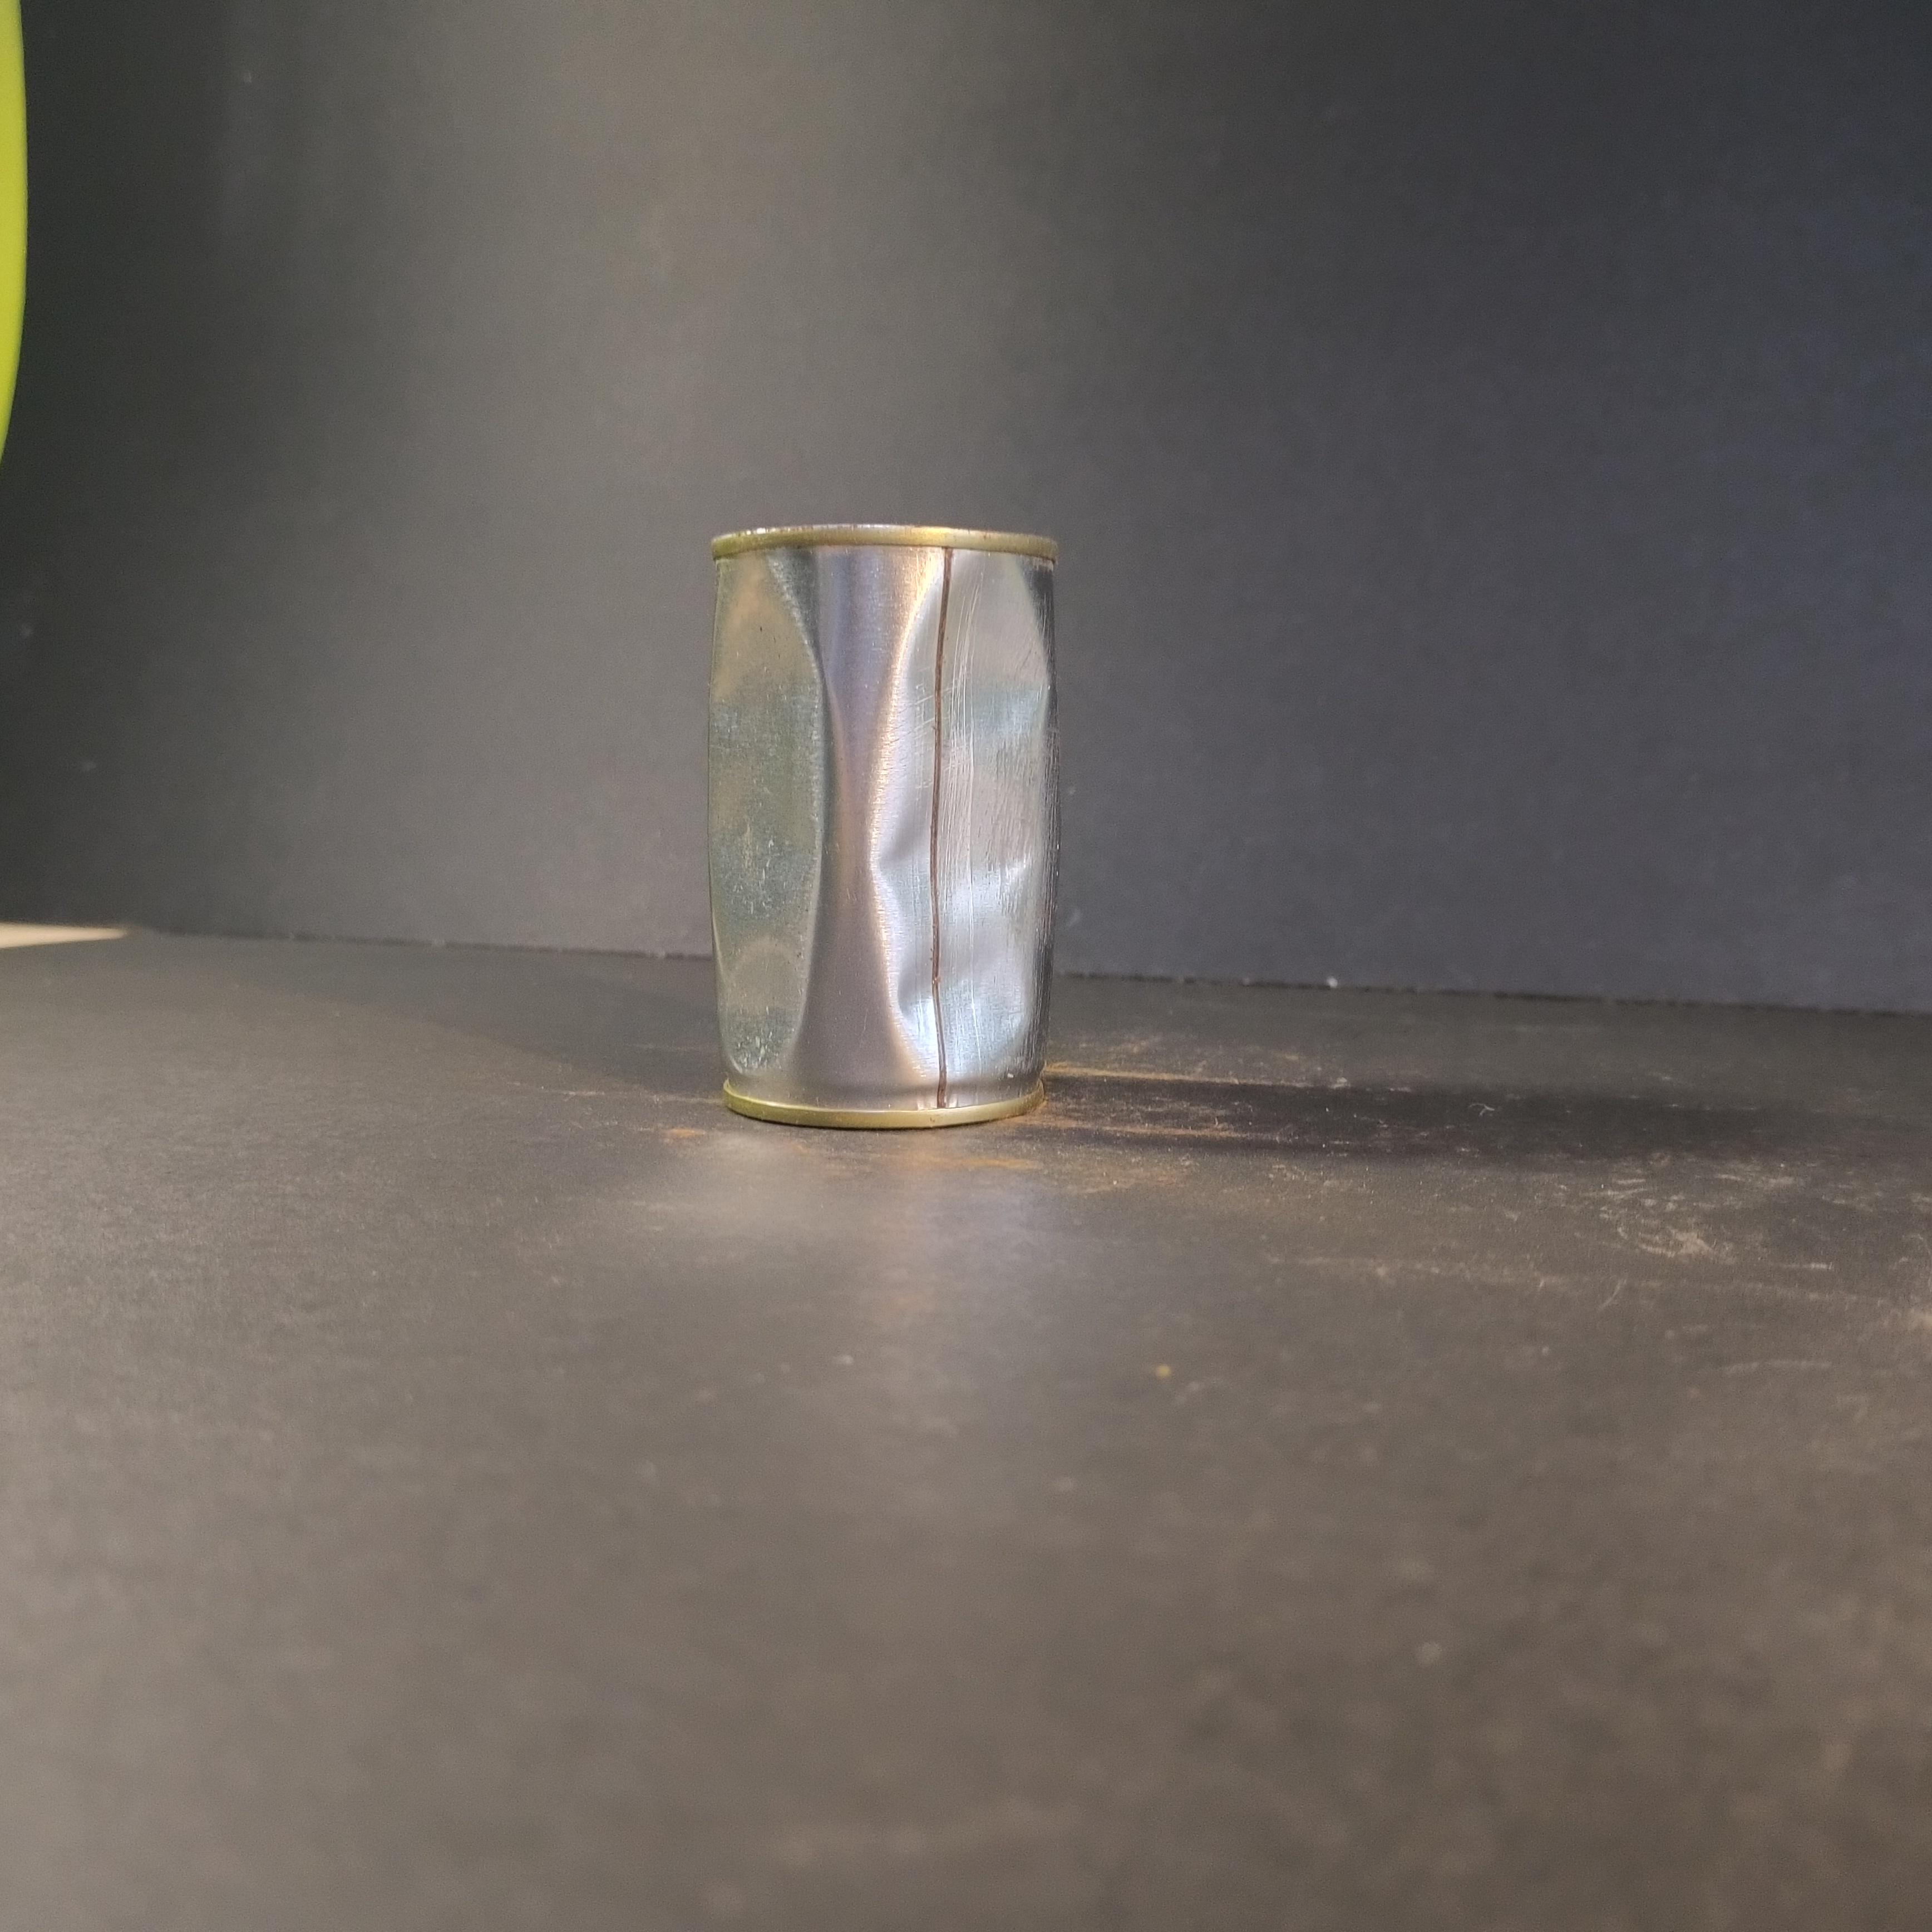Minor Defect: (707, 522, 1061, 1128)
